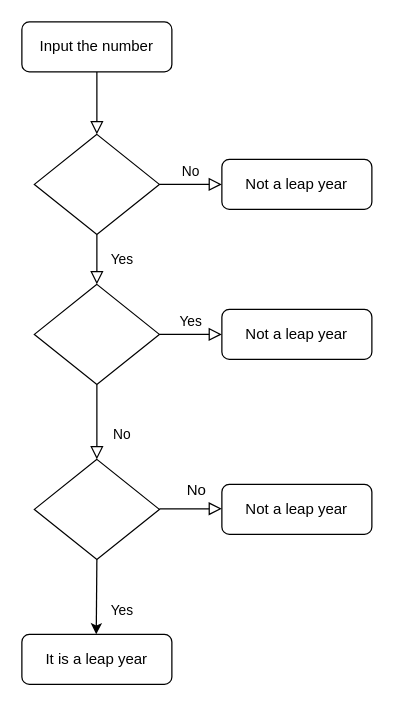
Image size: 394x706. Some labels were removed from this diagram. The shapes that lost their labels are listed below. From the top down, each one's box as (x1, y1, x2, y2) in pixels, then its label:
(33, 133, 159, 234): Is it divisible by 4?
(33, 283, 159, 384): Is it divisible by 100?
(33, 458, 159, 559): Is it divisible by 400?
